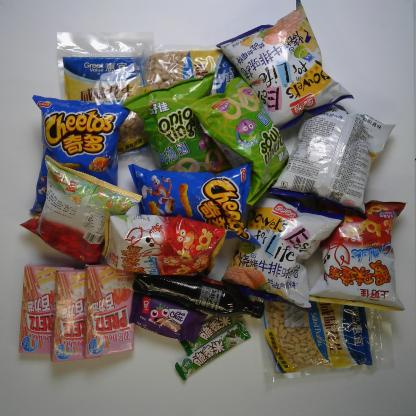Chocolate: (170, 316, 254, 384), (175, 310, 249, 358)
Dessert: (80, 260, 138, 362), (16, 263, 78, 358), (128, 290, 210, 349), (46, 266, 92, 363)
Dried Fruit: (51, 24, 159, 159), (257, 295, 395, 383), (138, 42, 241, 97)
Drink: (131, 262, 267, 320)
Puffed Food: (216, 0, 355, 136), (220, 188, 349, 313), (267, 99, 399, 221), (17, 153, 145, 270), (185, 74, 294, 210), (22, 87, 133, 217), (305, 196, 410, 318), (123, 160, 264, 248), (120, 69, 235, 176), (100, 204, 226, 281)
